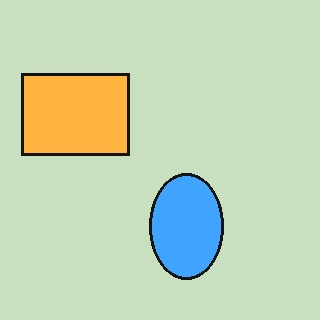circle_target: (150, 174, 224, 280)
square_target: (21, 73, 130, 156)
